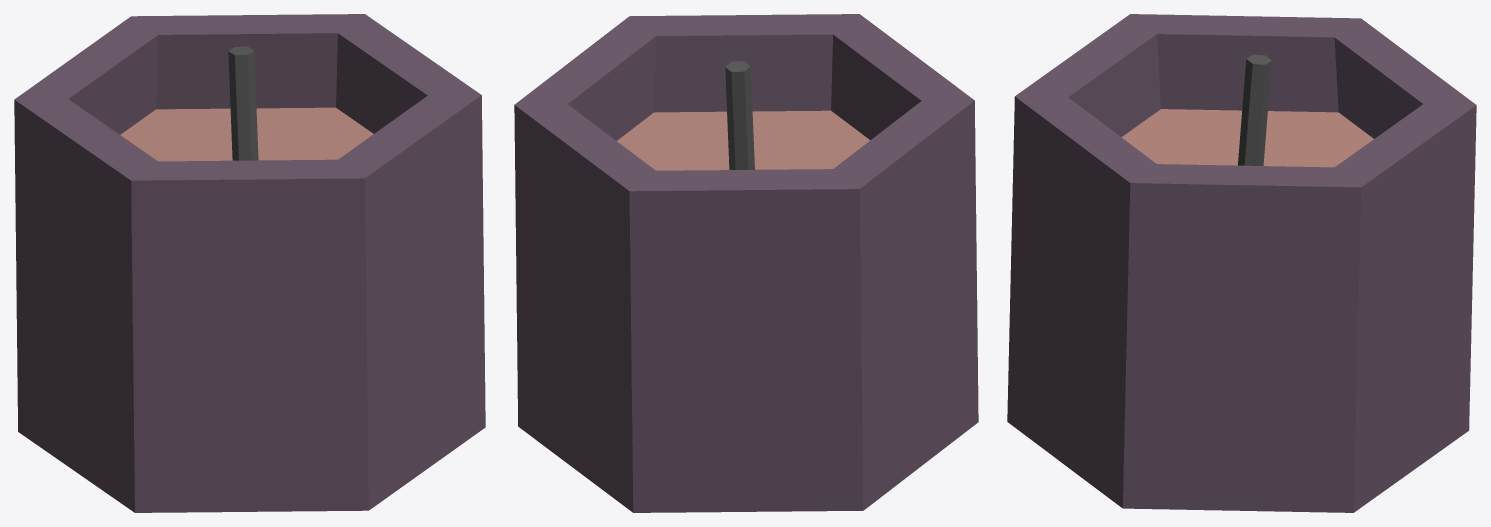
The model's file is candle_1.fbx.
The picture shows the model from 3 angles, left to right: view 1: azimuth 30°, elevation 25°; view 2: azimuth 150°, elevation 25°; view 3: azimuth 270°, elevation 25°; orthographic projection.
Visible parts, largest first — view 1: Candle; view 2: Candle; view 3: Candle.
Boxes of the visible parts, x1,y1,x2,y2 form: Candle: (14, 14, 485, 512); Candle: (514, 14, 978, 512); Candle: (1007, 14, 1476, 512).
Size of the model in its own units: 15.59 by 15.98 by 18.29.
